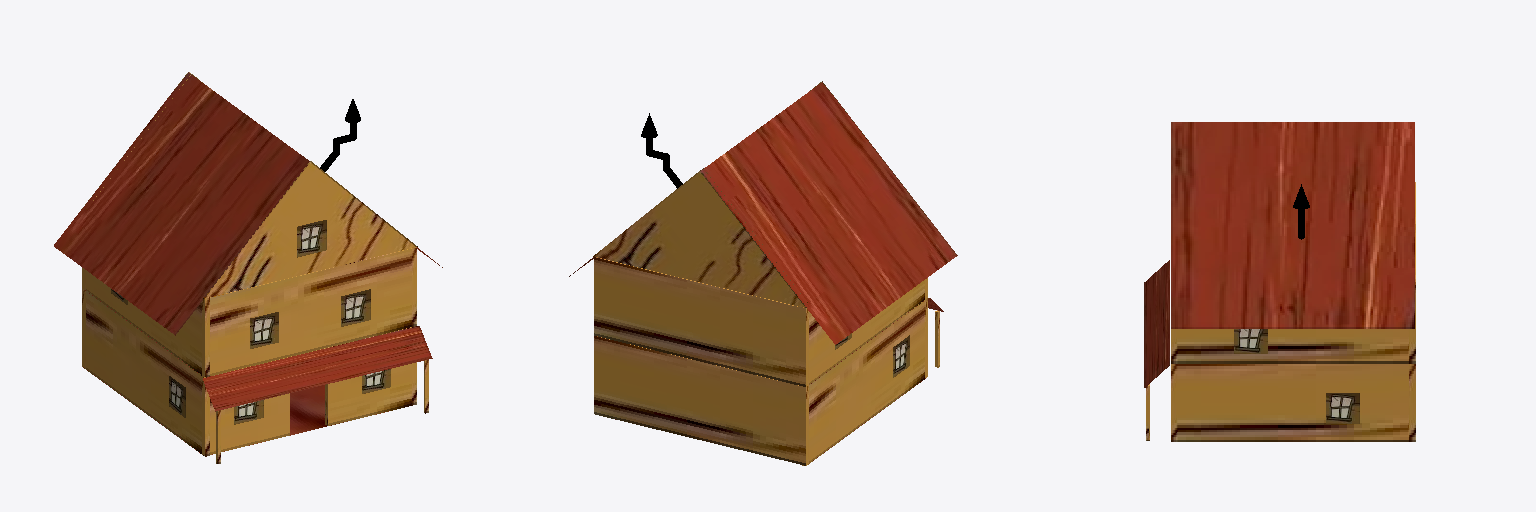
3 views of the same model, side by side, from view 1: azimuth 30°, elevation 25°; view 2: azimuth 150°, elevation 25°; view 3: azimuth 270°, elevation 25° (orthographic).
Parts seen in each view (by area): view 1: polySurface125; view 2: polySurface125; view 3: polySurface125.
Part boxes in pixels (left/top/right/bottom): polySurface125: left=54, top=72, right=442, bottom=463; polySurface125: left=569, top=81, right=957, bottom=465; polySurface125: left=1144, top=122, right=1415, bottom=441.
Bounding box in the file's own units: 25.5 × 24.37 × 22.16.
29 materials, 6 textured.